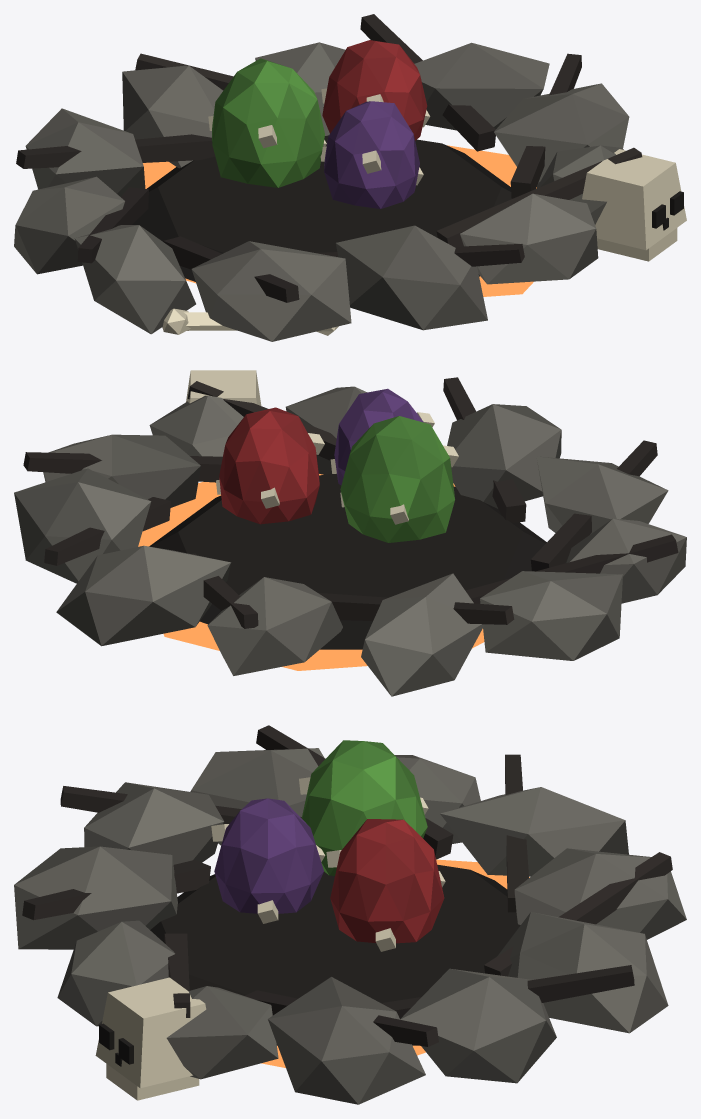
The model's file is dragon_egg_nest.glb.
3 views of the same model, one above another, from view 1: azimuth 30°, elevation 25°; view 2: azimuth 150°, elevation 25°; view 3: azimuth 270°, elevation 25° (orthographic). The views are drawn at different scales.
Visible parts, largest first — view 1: dragon_egg_nest; view 2: dragon_egg_nest; view 3: dragon_egg_nest.
Boxes of the visible parts, box(x1,y1,x2,y2) form: dragon_egg_nest: box(14, 14, 686, 341); dragon_egg_nest: box(14, 370, 686, 696); dragon_egg_nest: box(14, 725, 686, 1104).
Size of the model in its own units: 2.33 by 0.6788 by 2.11.
